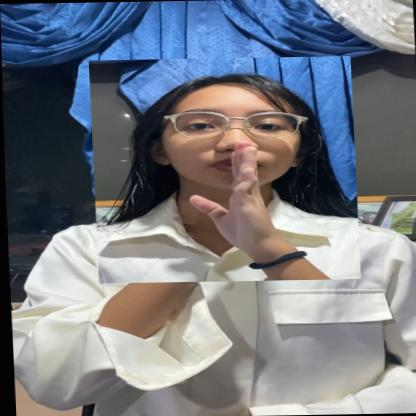Talk: (88, 55, 360, 284)
